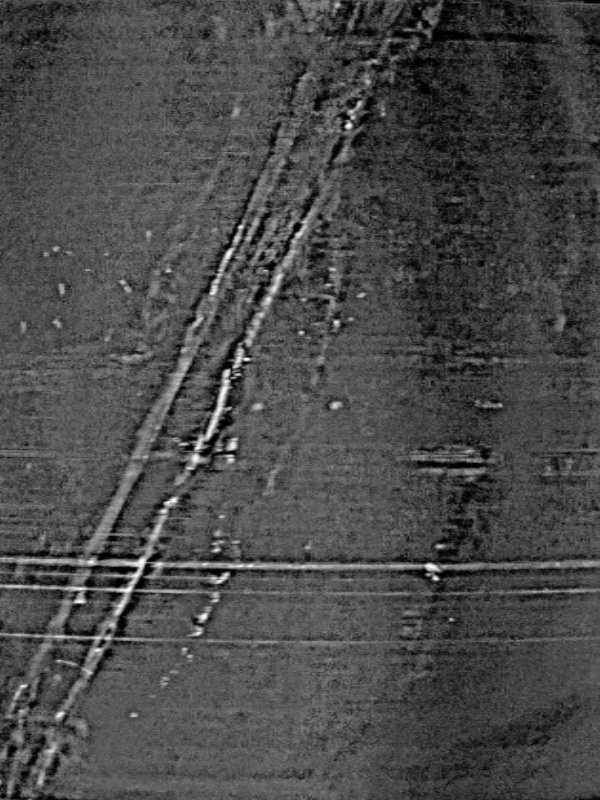splice_vulcanized: (1, 1, 421, 800)
